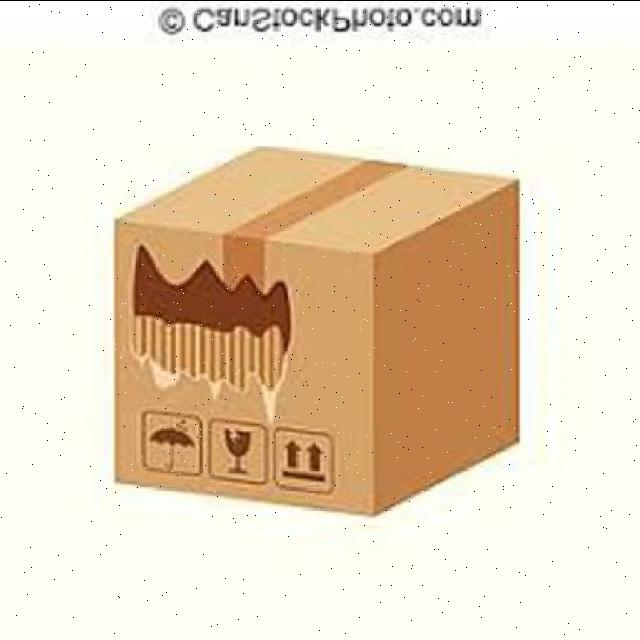defect: (108, 145, 529, 524)
